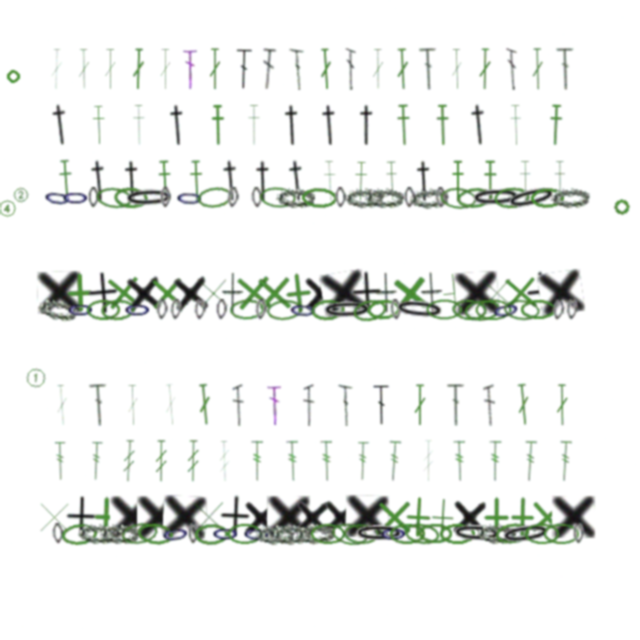chain: (504, 182, 559, 214), (499, 520, 553, 548), (393, 297, 446, 322), (470, 186, 522, 209), (451, 522, 503, 545), (123, 187, 175, 209), (321, 299, 373, 321), (37, 296, 79, 323), (330, 520, 369, 548), (353, 523, 405, 544), (351, 296, 389, 324), (120, 520, 159, 547), (295, 521, 336, 546), (403, 521, 441, 547), (409, 186, 449, 210), (255, 522, 295, 546), (272, 522, 312, 546), (196, 185, 234, 210), (136, 521, 174, 546), (494, 521, 531, 546), (344, 186, 384, 209), (550, 186, 590, 209), (95, 186, 133, 210), (439, 186, 477, 210), (463, 298, 501, 322), (60, 522, 98, 546), (456, 186, 493, 210), (266, 298, 303, 322), (503, 298, 540, 322), (259, 186, 296, 209), (493, 186, 530, 209), (490, 297, 522, 323), (113, 186, 149, 209), (100, 298, 136, 321), (229, 298, 265, 321), (310, 298, 346, 321), (366, 298, 402, 321), (451, 298, 487, 321), (276, 187, 315, 208), (365, 187, 404, 208), (78, 523, 117, 544), (100, 523, 139, 544), (477, 523, 516, 544), (343, 523, 380, 545), (301, 187, 337, 209), (475, 299, 512, 320), (530, 187, 565, 209), (194, 523, 229, 545), (426, 299, 462, 320), (520, 299, 556, 320), (310, 523, 346, 544), (389, 523, 425, 544), (439, 523, 475, 544), (524, 523, 560, 544), (543, 523, 579, 544), (42, 186, 73, 210), (160, 522, 191, 546), (86, 299, 121, 320), (227, 523, 262, 544), (418, 523, 453, 544), (288, 299, 318, 321), (175, 187, 204, 209), (242, 523, 271, 545), (61, 187, 90, 208), (66, 299, 95, 320), (123, 299, 152, 320), (211, 523, 240, 544), (379, 523, 408, 544), (552, 299, 565, 321), (227, 187, 239, 208), (251, 187, 263, 208), (435, 187, 447, 208), (156, 299, 168, 320), (170, 299, 182, 320), (194, 299, 206, 320), (255, 299, 267, 320), (390, 299, 402, 320), (566, 299, 578, 320), (52, 523, 64, 544), (88, 187, 99, 208), (160, 187, 171, 208), (335, 187, 346, 208), (404, 187, 415, 208), (216, 299, 227, 320), (188, 523, 199, 544), (573, 523, 584, 544)
double: (89, 384, 109, 426), (419, 48, 438, 90), (556, 48, 575, 90), (235, 48, 253, 90), (447, 384, 465, 426), (162, 383, 179, 426), (196, 383, 213, 426), (515, 383, 532, 426), (260, 48, 277, 90), (289, 48, 306, 90), (373, 384, 390, 426), (318, 48, 334, 90), (54, 384, 70, 426), (49, 48, 64, 90), (131, 48, 146, 90), (395, 48, 410, 90), (449, 48, 464, 90), (530, 48, 545, 90), (125, 384, 140, 426), (267, 384, 282, 426), (338, 384, 353, 426), (77, 48, 91, 90), (103, 48, 117, 90), (158, 48, 172, 90), (183, 48, 197, 90), (208, 48, 222, 90), (371, 48, 385, 90), (478, 48, 492, 90), (413, 384, 427, 426), (555, 384, 569, 426), (232, 384, 245, 426), (483, 384, 496, 426), (506, 48, 518, 90), (303, 384, 315, 426), (345, 48, 356, 90)
half_double: (47, 103, 74, 146), (466, 103, 492, 146), (86, 159, 112, 202), (218, 159, 244, 202), (284, 159, 310, 202), (165, 104, 190, 146), (317, 104, 342, 146), (354, 104, 379, 146), (280, 104, 304, 146), (120, 160, 144, 202), (251, 160, 275, 202), (412, 160, 436, 202), (57, 159, 75, 202), (156, 160, 174, 202), (321, 160, 339, 202), (90, 104, 107, 146), (395, 104, 412, 146), (434, 104, 451, 146), (507, 104, 524, 146), (547, 104, 564, 146), (188, 160, 205, 202), (352, 160, 369, 202), (383, 160, 400, 202), (131, 104, 147, 146), (210, 104, 226, 146), (246, 104, 262, 146), (450, 160, 466, 202), (482, 160, 498, 202), (517, 160, 533, 202), (552, 160, 568, 202)
noise: (24, 366, 47, 389), (612, 197, 632, 217), (0, 198, 18, 219), (11, 185, 30, 204), (5, 68, 22, 85)
single: (319, 269, 368, 317), (537, 269, 585, 316), (275, 270, 321, 316), (387, 270, 433, 316), (431, 270, 477, 316), (101, 270, 146, 315), (231, 270, 276, 315), (498, 270, 543, 315), (454, 271, 499, 315), (162, 495, 207, 539), (145, 271, 189, 315), (191, 271, 235, 315), (252, 271, 296, 315), (396, 495, 440, 539), (420, 495, 464, 539), (525, 495, 569, 539), (37, 271, 81, 314), (345, 495, 389, 538), (123, 270, 165, 315), (170, 270, 212, 315), (58, 271, 101, 314), (475, 271, 518, 314), (84, 495, 127, 538), (187, 495, 230, 538), (110, 496, 153, 538), (137, 496, 180, 538), (267, 496, 310, 538), (552, 496, 595, 538), (33, 496, 75, 538), (373, 496, 415, 538), (475, 496, 517, 538), (501, 496, 543, 538), (292, 495, 333, 538), (302, 271, 342, 314), (321, 495, 361, 538), (450, 495, 490, 538), (242, 496, 281, 538), (523, 270, 559, 315), (85, 271, 120, 315), (349, 271, 383, 314), (218, 495, 251, 538), (64, 496, 97, 538), (420, 271, 444, 314), (375, 272, 398, 314), (222, 272, 244, 314)
treble: (386, 440, 403, 482), (522, 440, 539, 482), (557, 440, 574, 482), (121, 440, 137, 482), (53, 440, 68, 482), (89, 440, 104, 482), (217, 440, 232, 482), (285, 440, 300, 482), (319, 440, 334, 482), (452, 440, 467, 482), (154, 440, 168, 482), (186, 440, 200, 482), (250, 440, 264, 482), (356, 440, 370, 482), (421, 440, 435, 482), (488, 440, 502, 482)
